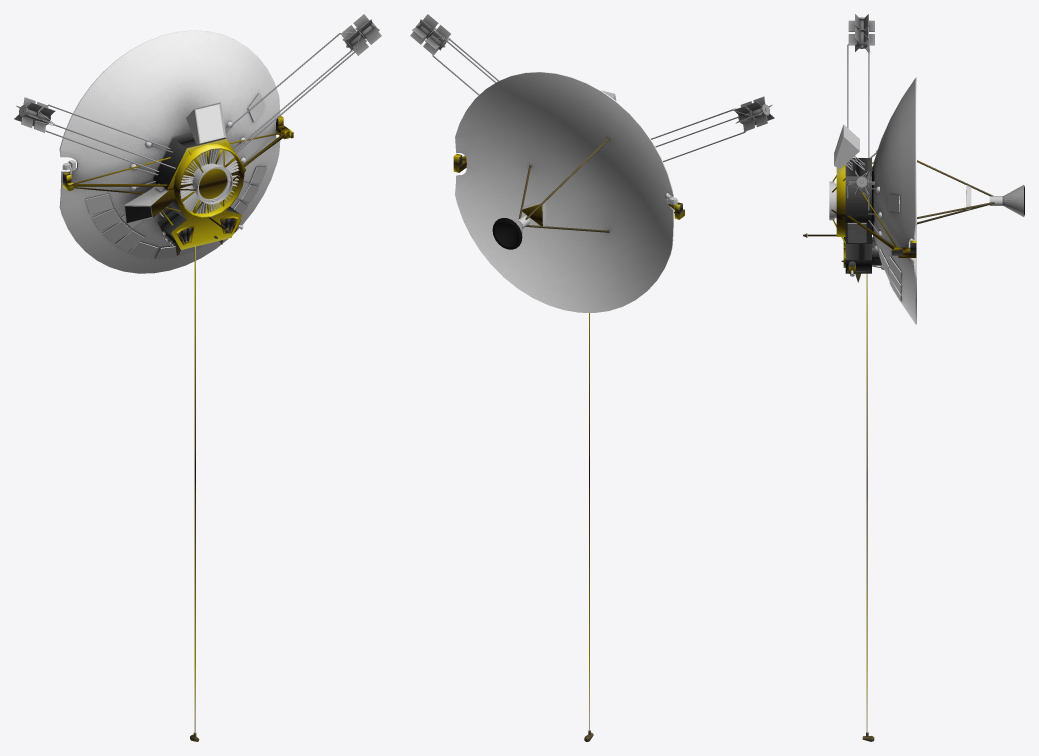
Rendered from pio.glb.
3 views of the same model, side by side, from view 1: azimuth 30°, elevation 25°; view 2: azimuth 150°, elevation 25°; view 3: azimuth 270°, elevation 25° (orthographic). The views are drawn at different scales.
Parts seen in each view (by area): view 1: AO_dish, Foil_gold, Silver, Norm_silver, Tex_02, Foil_silver, AO_rtg, Foil_trans; view 2: AO_dish, AO_rtg, Tex_02, Foil_gold, Tex_black; view 3: AO_dish, Foil_silver, Foil_gold, Tex_02, Silver, AO_rtg, Norm_silver, Tex_01.
Boxes of the visible parts, x1,y1,x2,y2 form: AO_dish: [59, 30, 280, 273]; Foil_gold: [63, 116, 293, 733]; Silver: [62, 93, 266, 258]; Norm_silver: [85, 94, 267, 259]; Tex_02: [34, 32, 360, 741]; Foil_silver: [63, 118, 278, 249]; AO_rtg: [14, 14, 381, 132]; Foil_trans: [196, 104, 223, 141]; AO_dish: [455, 72, 673, 312]; AO_rtg: [410, 14, 774, 131]; Tex_02: [428, 30, 755, 741]; Foil_gold: [453, 154, 684, 730]; Tex_black: [492, 218, 522, 249]; AO_dish: [872, 77, 1023, 324]; Foil_silver: [845, 158, 916, 273]; Foil_gold: [807, 162, 966, 732]; Tex_02: [803, 30, 994, 741]; Silver: [829, 124, 1002, 301]; AO_rtg: [848, 14, 874, 195]; Norm_silver: [879, 194, 900, 301]; Tex_01: [847, 223, 866, 242].
Bounding box in the file's own units: 4.52 × 8.25 × 2.54.
10 materials, 8 textured.
